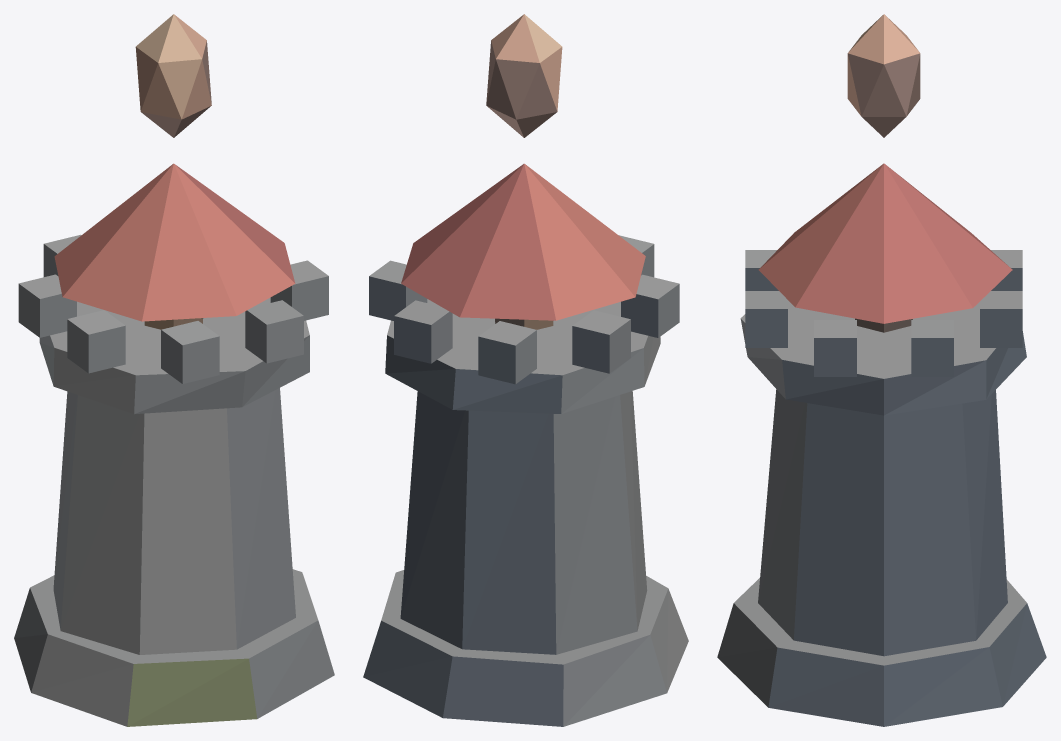
File: tower_red.glb
The picture shows the model from 3 angles, left to right: view 1: azimuth 30°, elevation 25°; view 2: azimuth 150°, elevation 25°; view 3: azimuth 270°, elevation 25°; orthographic projection.
Parts seen in each view (by area): view 1: tower_red, crystal_red; view 2: tower_red, crystal_red; view 3: tower_red, crystal_red.
Boxes of the visible parts, box(x1,y1,x2,y2) form: tower_red: box(14, 163, 334, 726); crystal_red: box(135, 14, 211, 137); tower_red: box(363, 163, 688, 726); crystal_red: box(486, 14, 562, 137); tower_red: box(717, 163, 1046, 726); crystal_red: box(847, 14, 920, 137).
Bounding box in the file's own units: 2.46 × 5.31 × 2.47.
